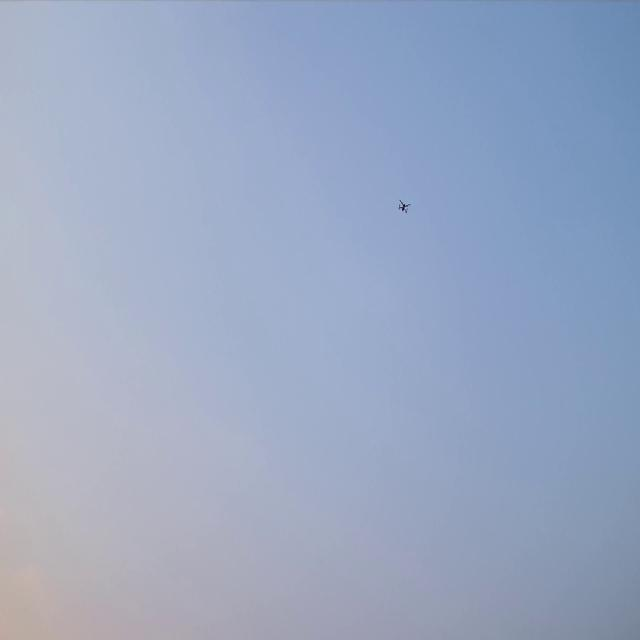UAV: (399, 200, 409, 212)
